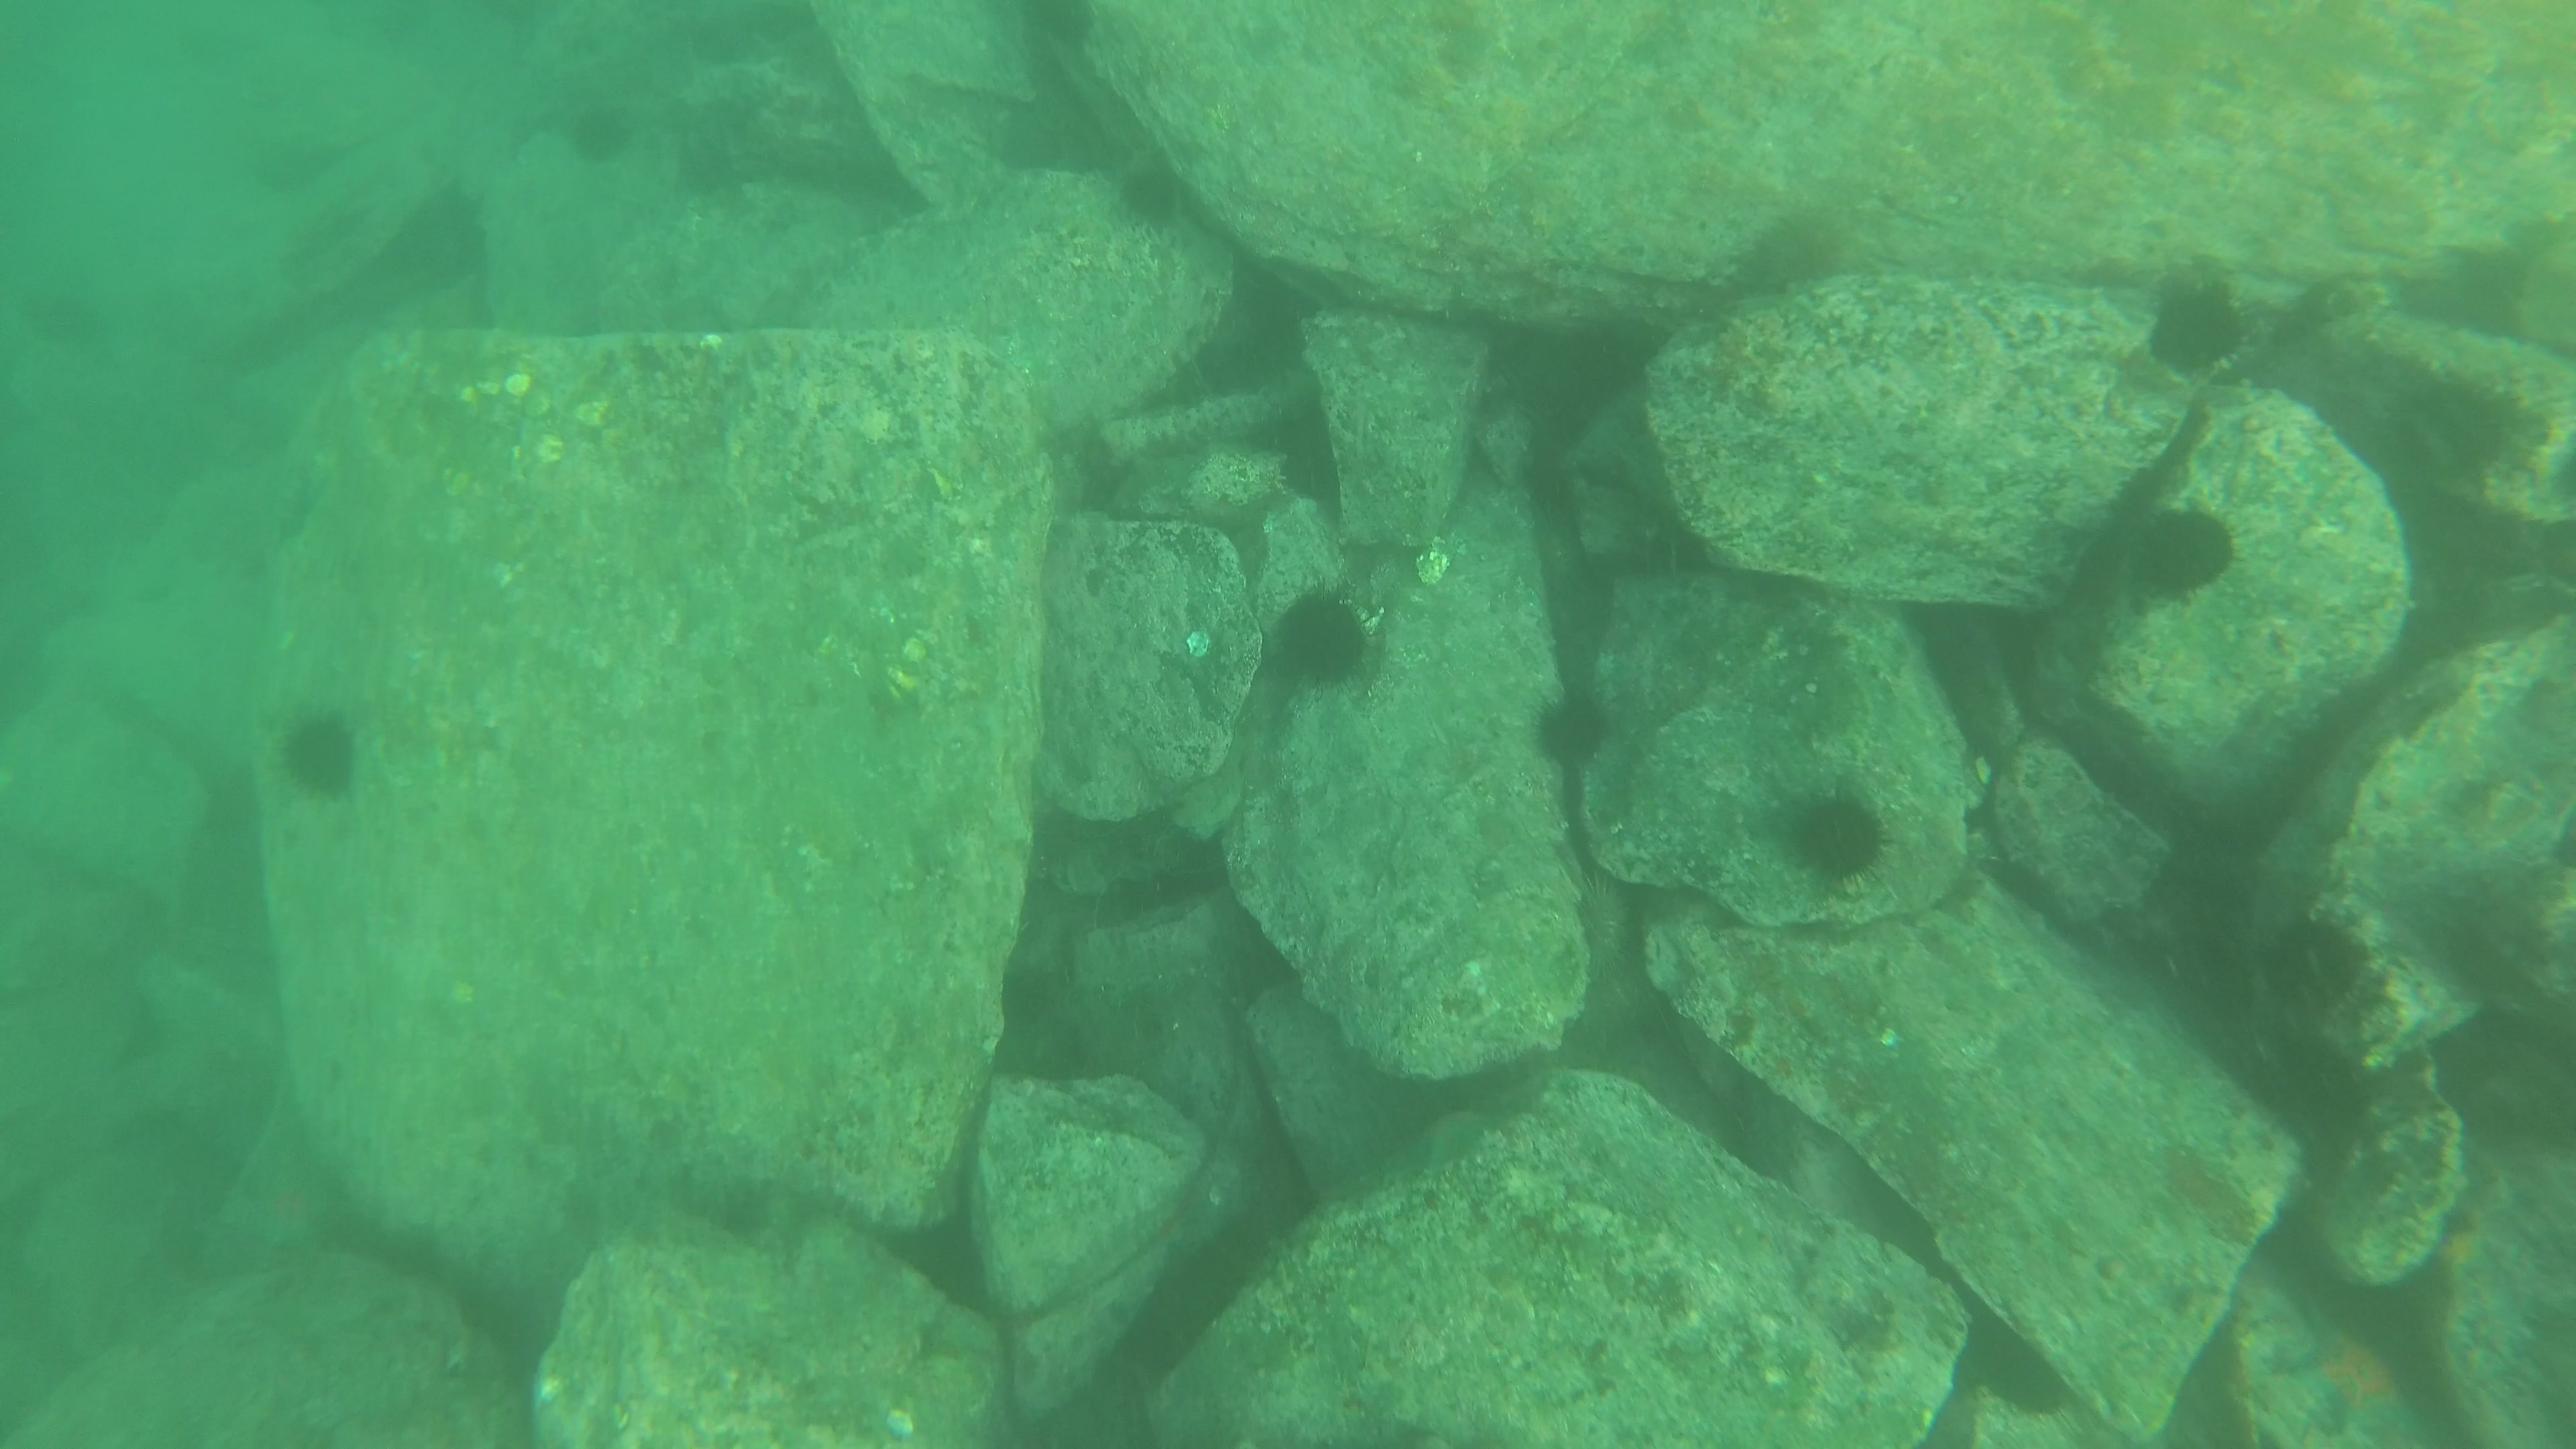echinus: (2383, 364, 2528, 497), (2235, 1023, 2380, 1152), (2254, 908, 2380, 1024), (1775, 780, 1897, 893), (1265, 580, 1382, 694), (2125, 499, 2243, 605), (2141, 271, 2252, 380), (1730, 203, 1852, 301), (272, 702, 370, 805), (1527, 679, 1617, 775), (1001, 0, 1109, 69), (1108, 152, 1192, 234), (561, 94, 639, 170)
starfish: (2268, 1302, 2434, 1445)
